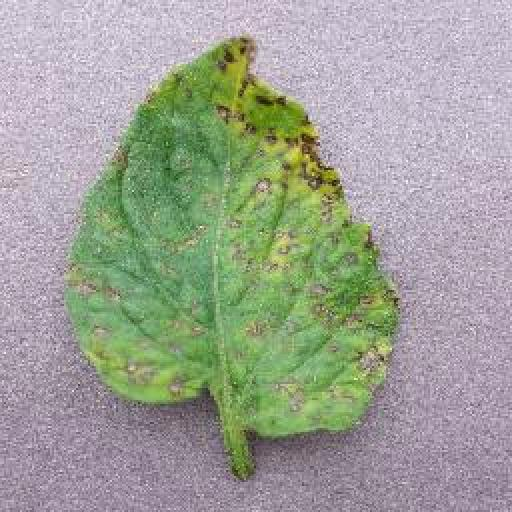disease_tomato: (63, 36, 399, 438)
